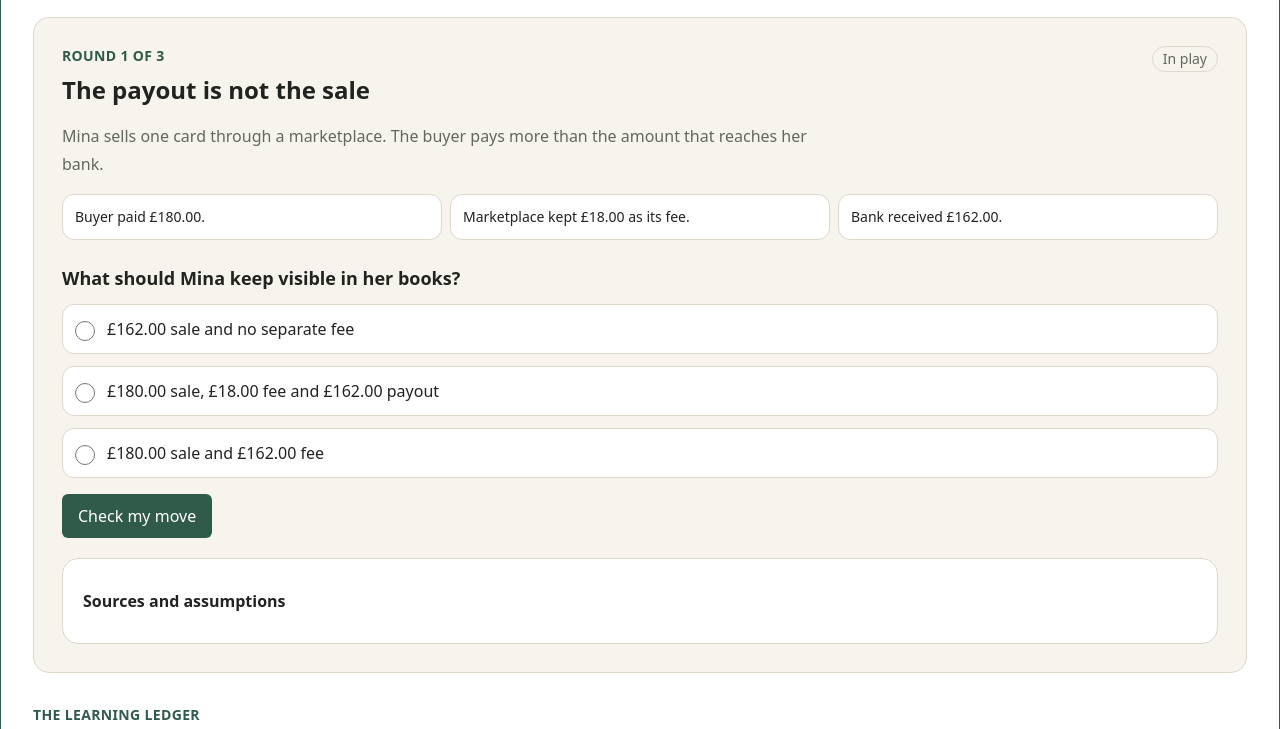
Test: learning playground › continues explicitly and moves focus to the next round heading
(page scrolled)
What coordinates should you click on to do the following:
click the radio button labelled "£180.00 sale, £18.00 fee and £162.00 payout"
I would click on:
 (85, 393)
Its box is [75,383,95,403].
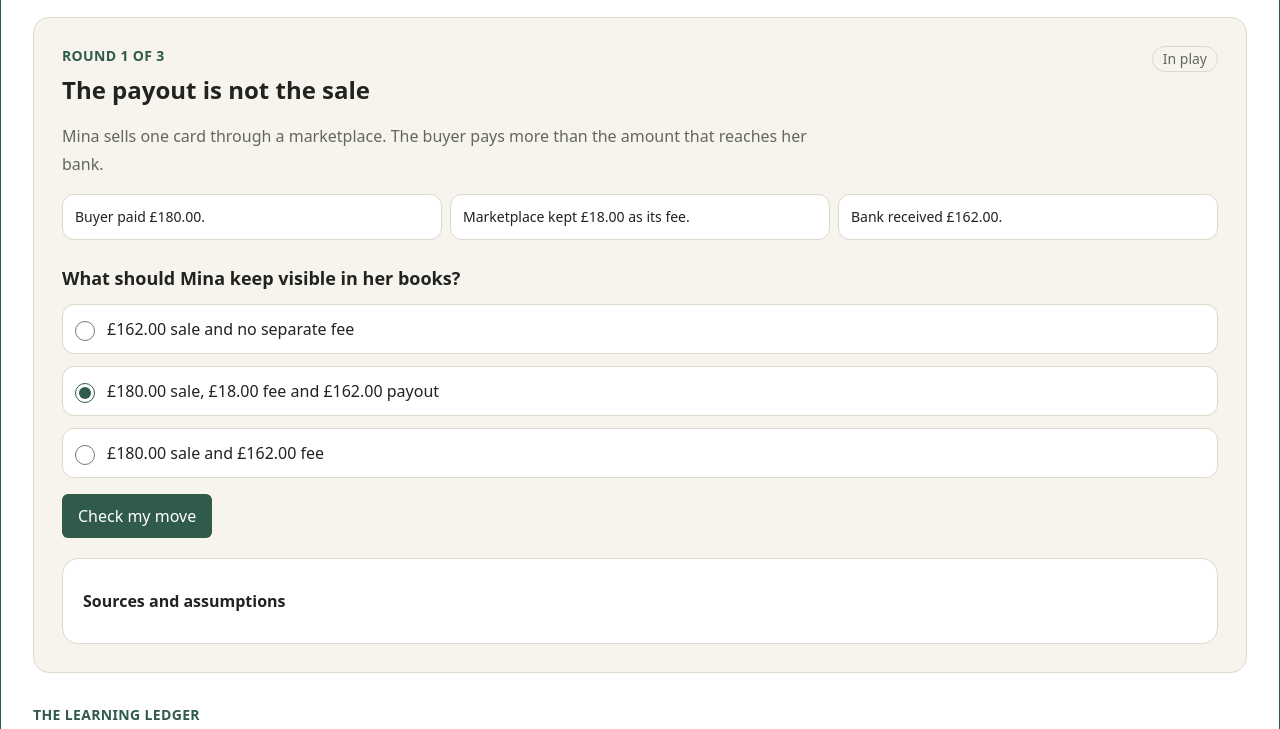
What coordinates should you click on to do the following:
click the button "Check my move"
I would click on:
 (137, 516)
Its box is [62,494,212,538].
(page scrolled)
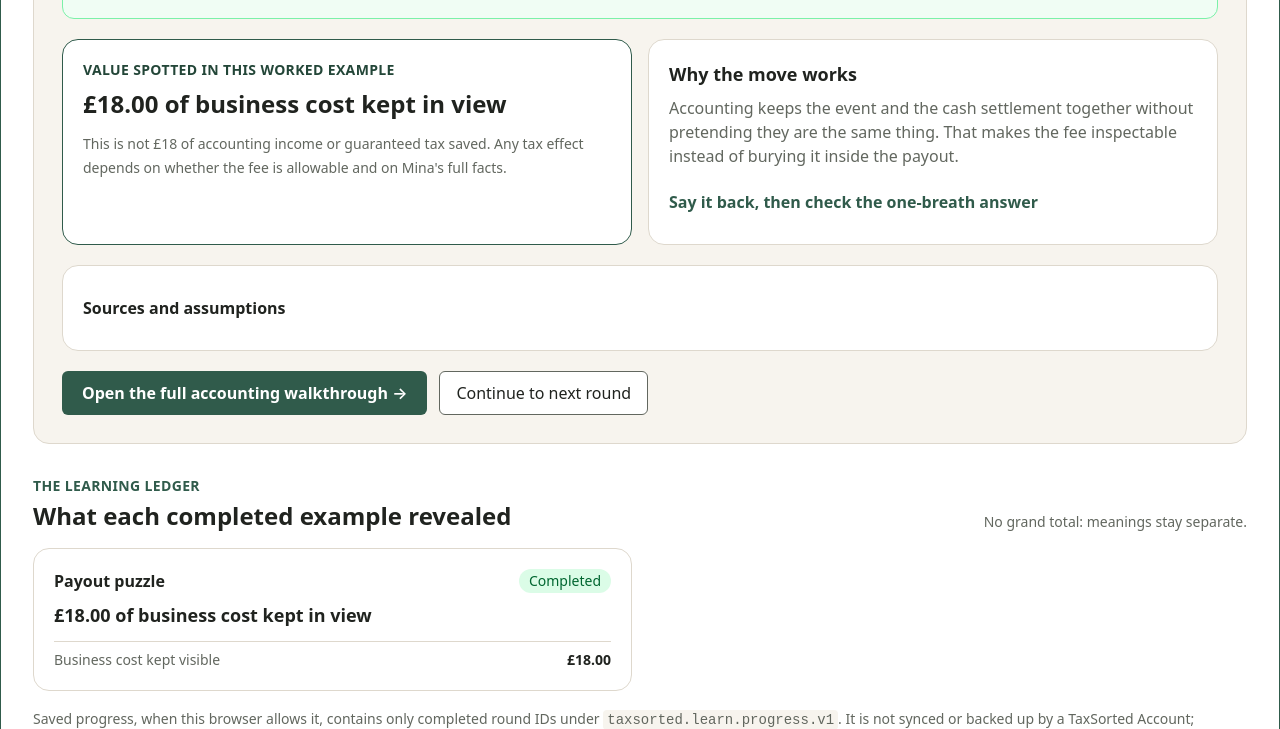
What coordinates should you click on to do the following:
click the button "Continue to next round"
I would click on:
 (544, 393)
Its box is [439,371,648,415].
(page scrolled)
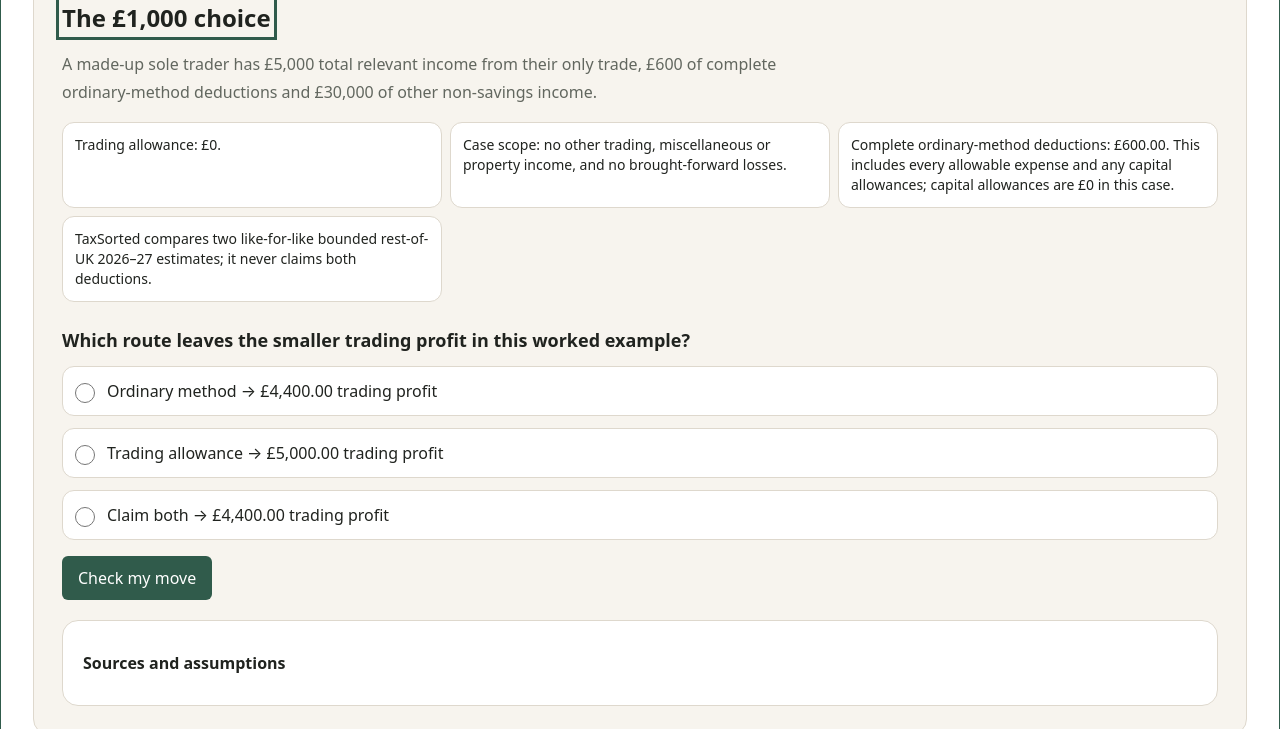
Now the element "Which route leaves the smaller trading profit" is shown, box [62,326,1218,540]
Now the list item "Case scope: no other trading, miscellaneous or property income" is shown, box [463,135,787,174]
Now the 3rd list item is shown, box [851,135,1200,194]
